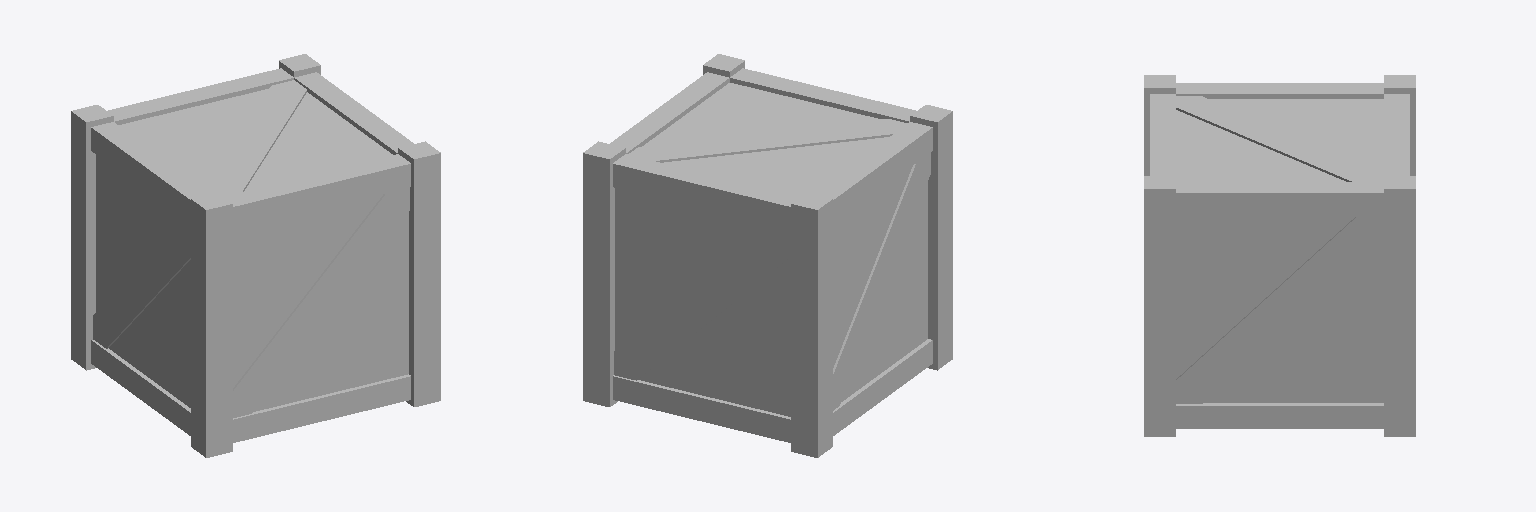
Rendered from ZPG_box.obj.
3 views of the same model, side by side, from view 1: azimuth 30°, elevation 25°; view 2: azimuth 150°, elevation 25°; view 3: azimuth 270°, elevation 25° (orthographic).
Visible parts, largest first — view 1: Box_Cube.001; view 2: Box_Cube.001; view 3: Box_Cube.001.
Part boxes in pixels (bbox=[...]): Box_Cube.001: bbox=[71, 54, 440, 457]; Box_Cube.001: bbox=[583, 54, 952, 457]; Box_Cube.001: bbox=[1144, 75, 1415, 436].
Bounding box in the file's own units: 2.08 × 2.1 × 2.08.